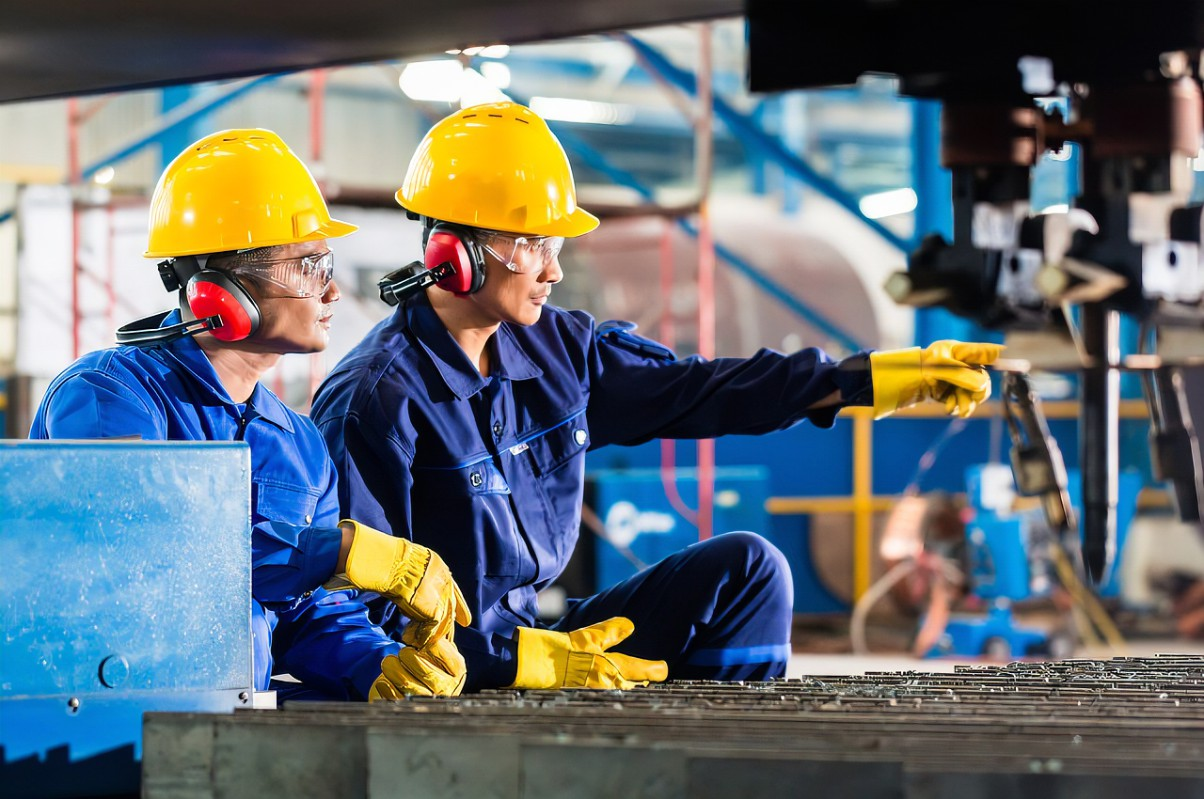safetyhat: (361, 86, 767, 517), (36, 108, 360, 568)
